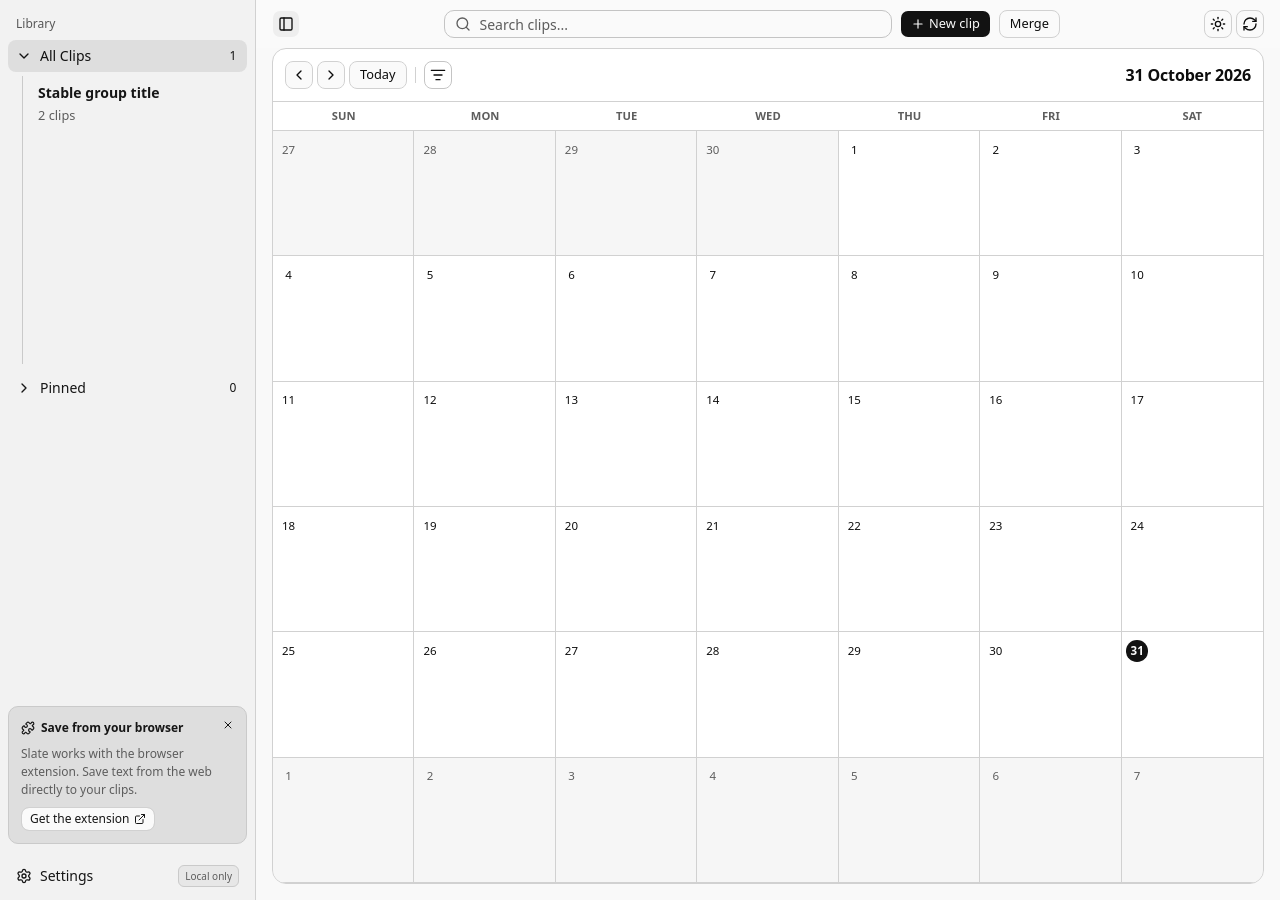
Test: Delete First member waits for the shared member save and runs at most once
Click the button "Stable group title 2 clips": point(138, 104) [29, 76, 247, 132]
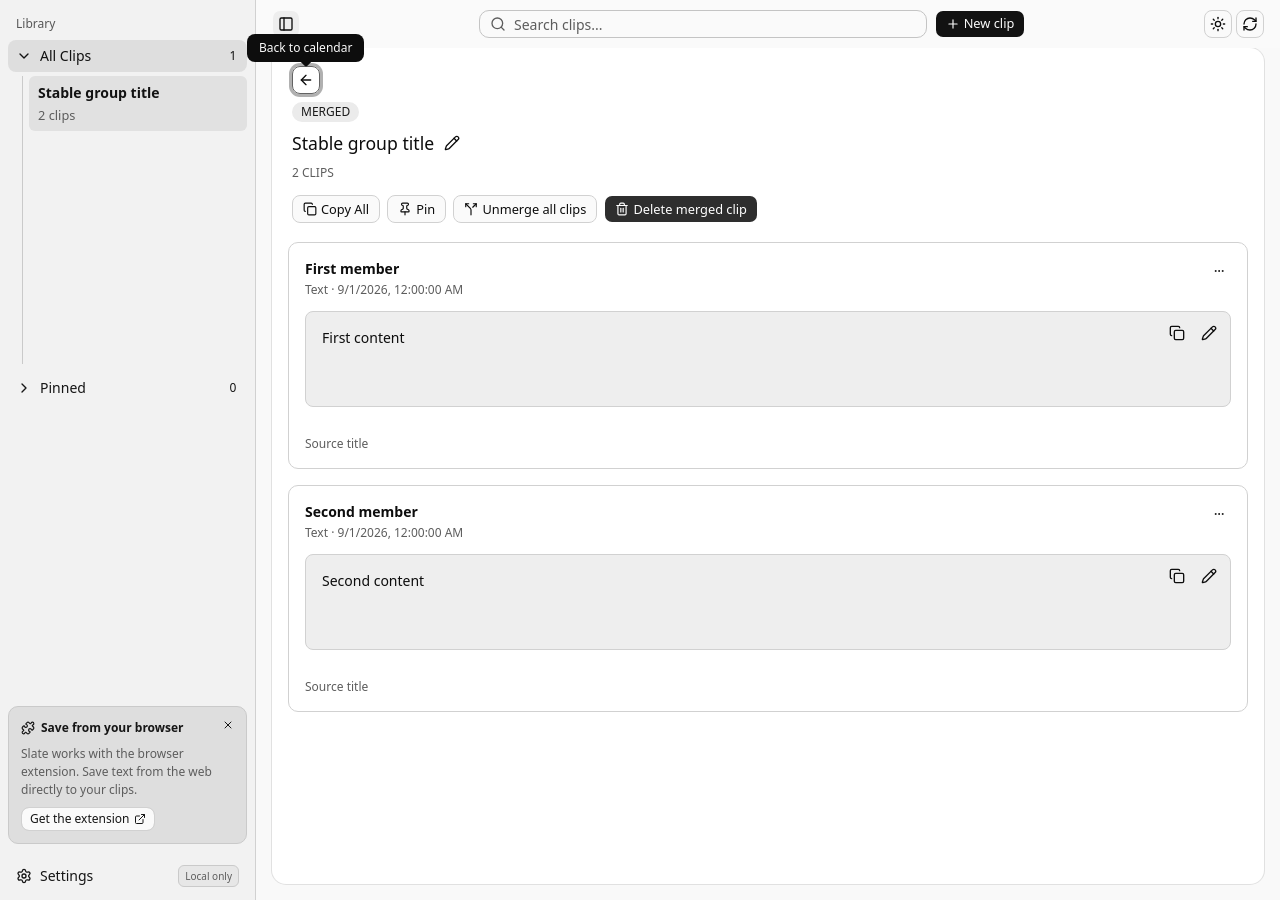
Now the heading "Stable group title" is shown, box [292, 131, 434, 155]
Click the button named "Edit content: First member": point(1209, 333) [1195, 319, 1223, 347]
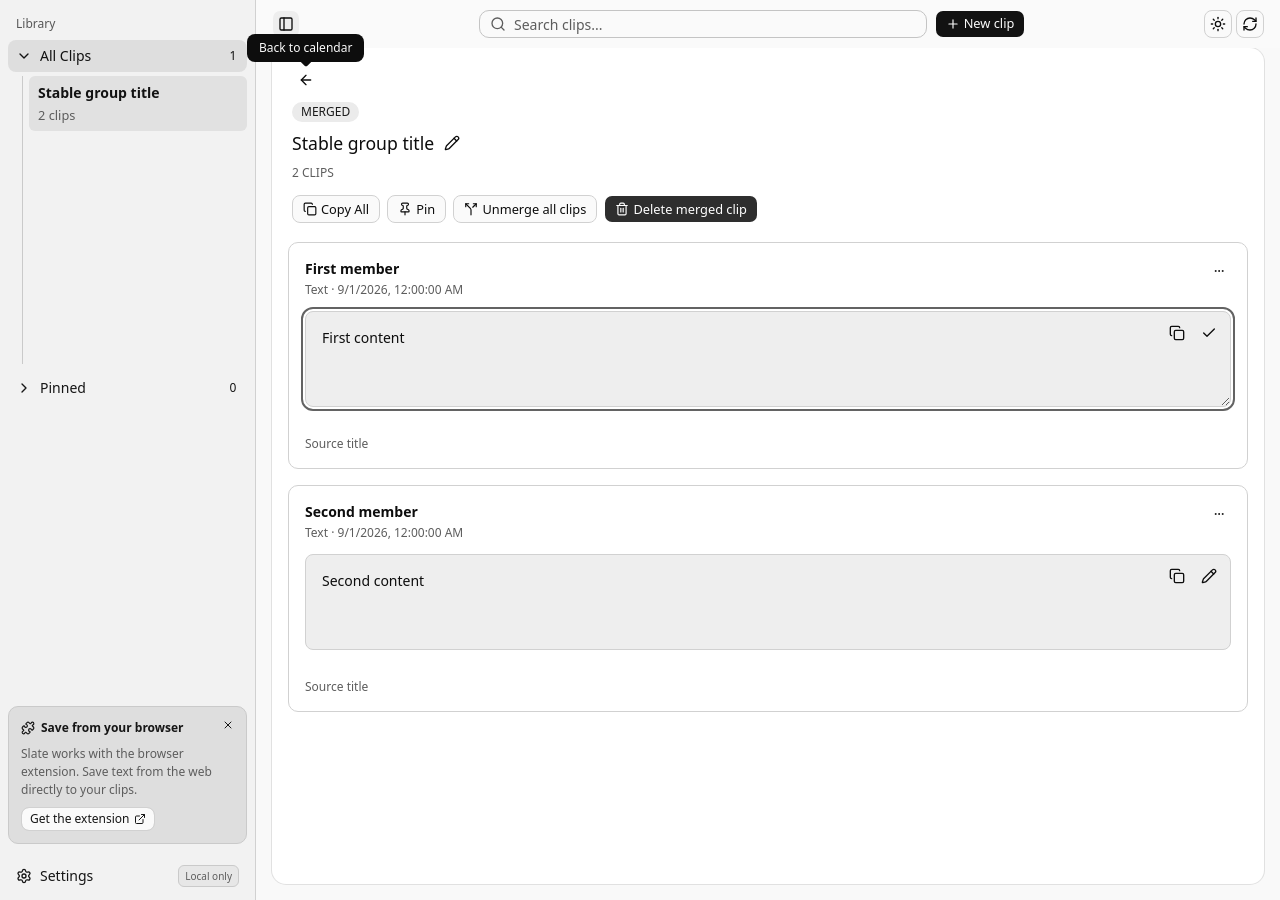
Replace the text in the text box named "Clip content: First member" with "Edited member content": point(768, 359) [305, 311, 1231, 407]
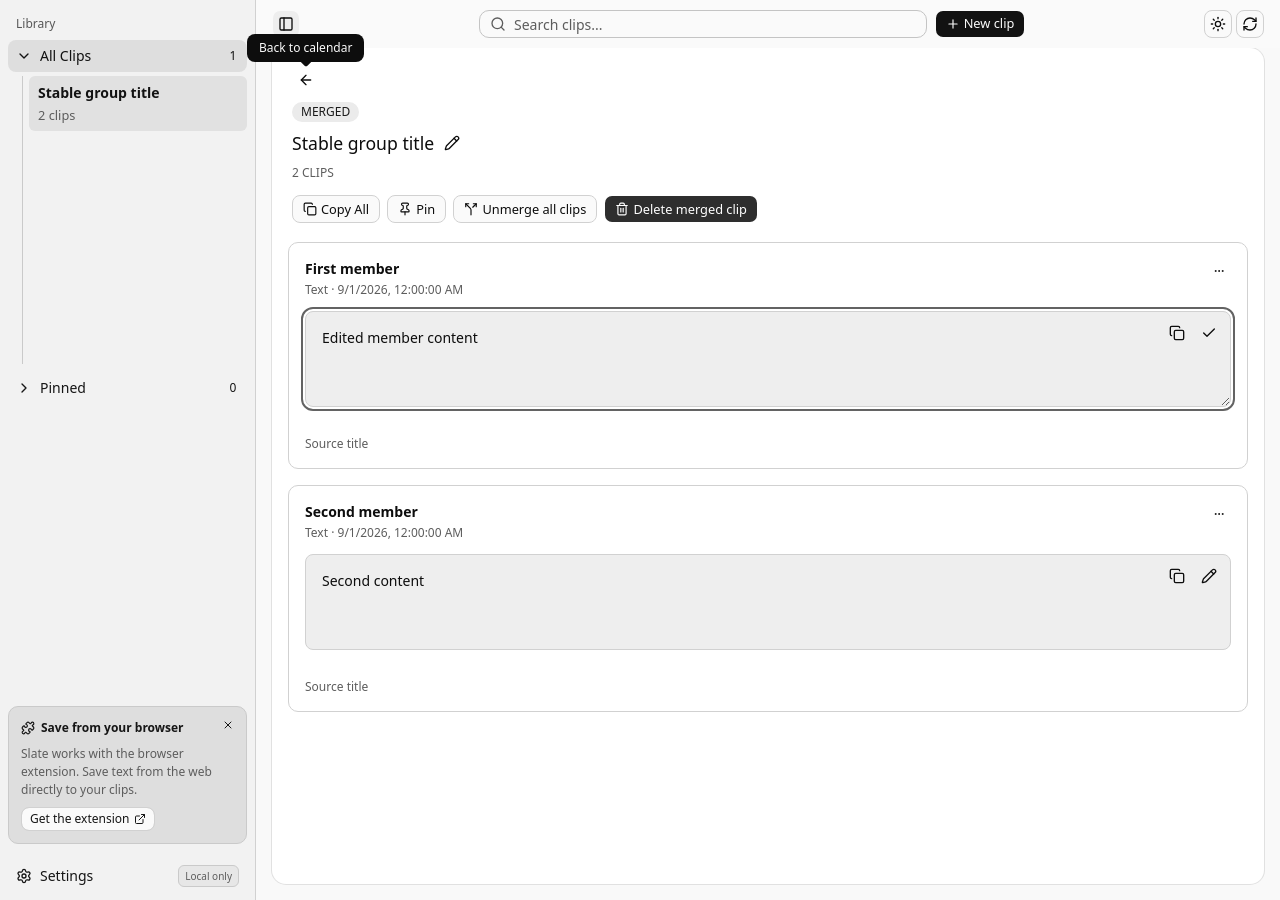
Click the button named "Actions for First member": point(1219, 271) [1207, 259, 1231, 283]
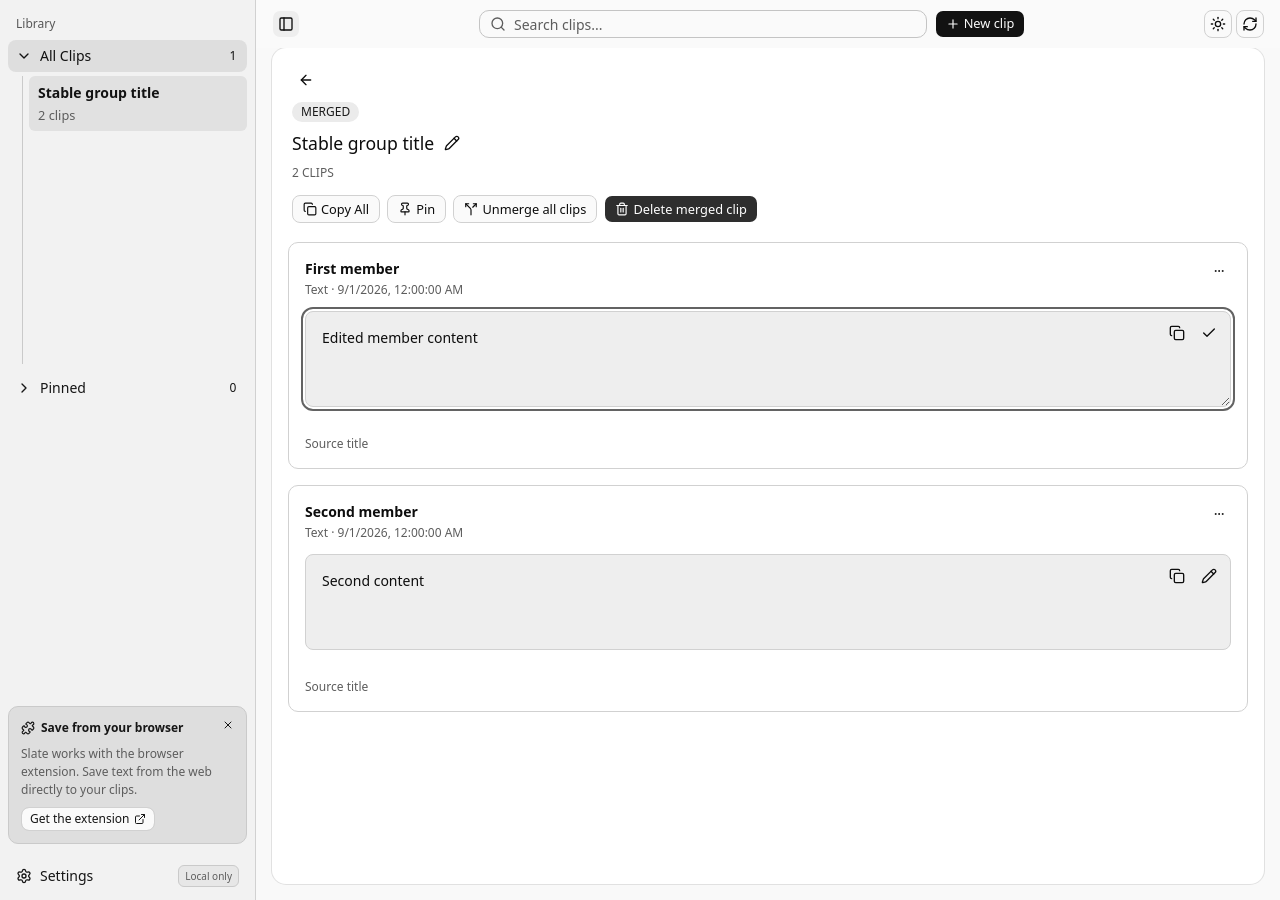
Click the button named "Actions for First member": point(1219, 271) [1207, 259, 1231, 283]
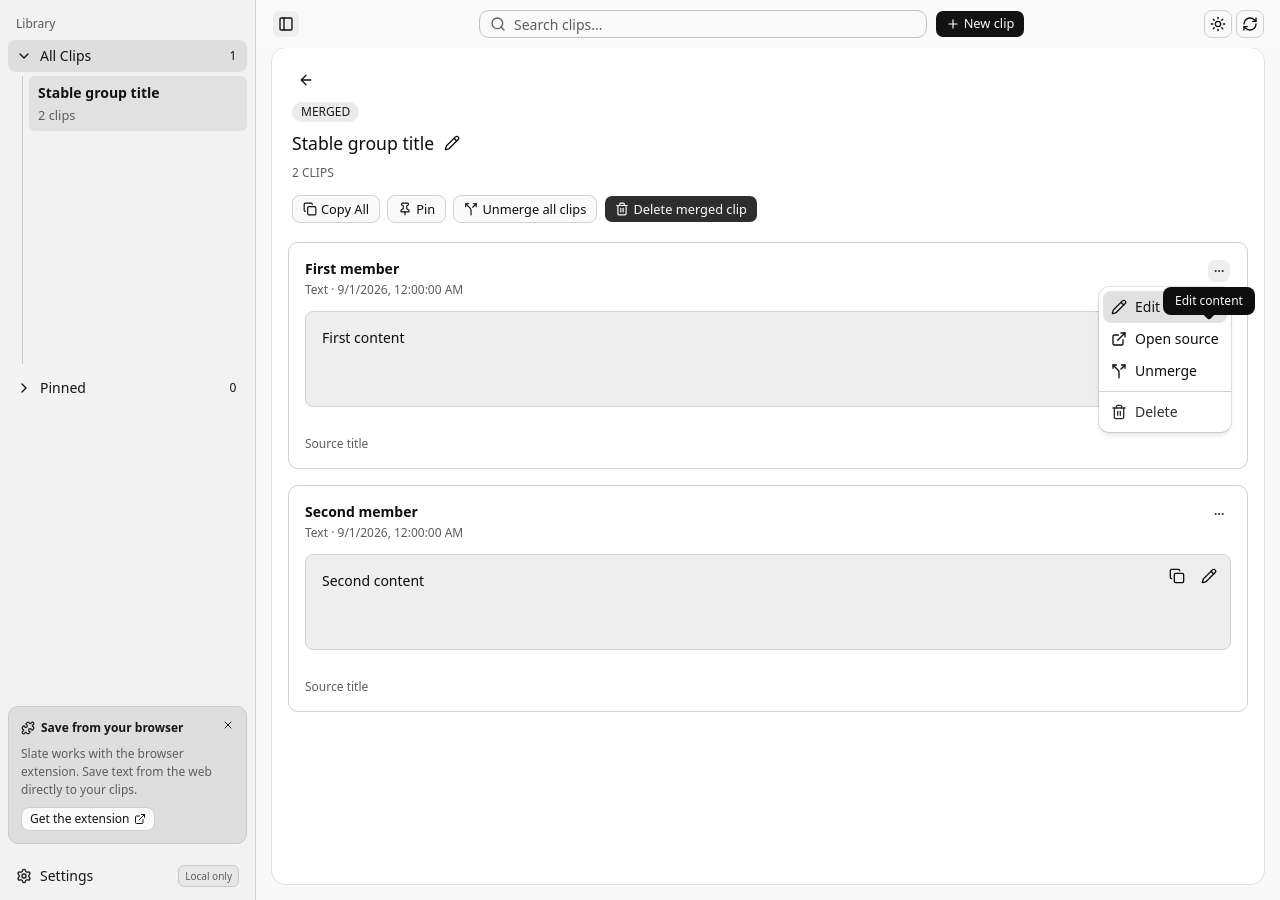
Click the menu item "Delete": point(1144, 412) [1111, 402, 1178, 421]
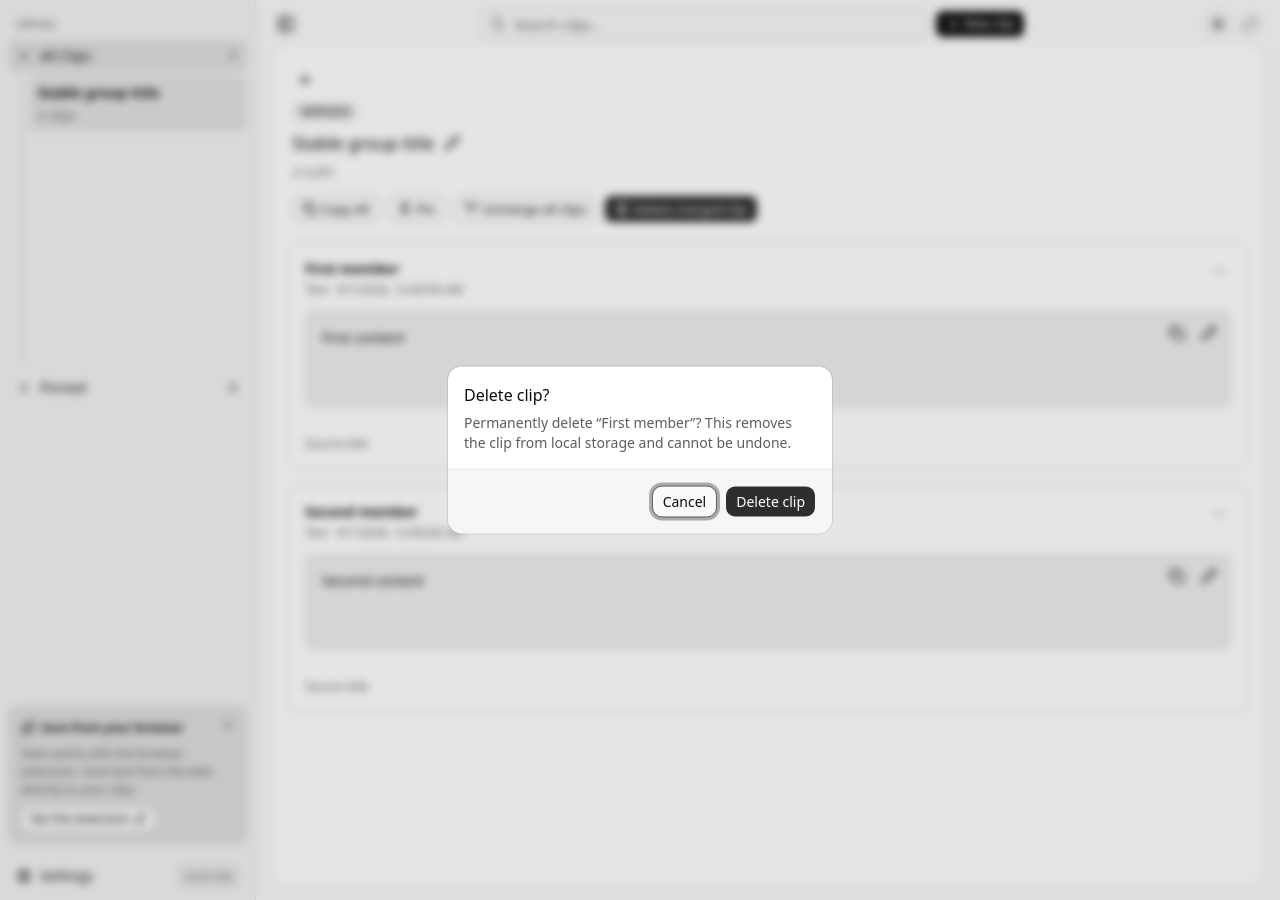
Now the dialog is shown, box [448, 366, 832, 534]
